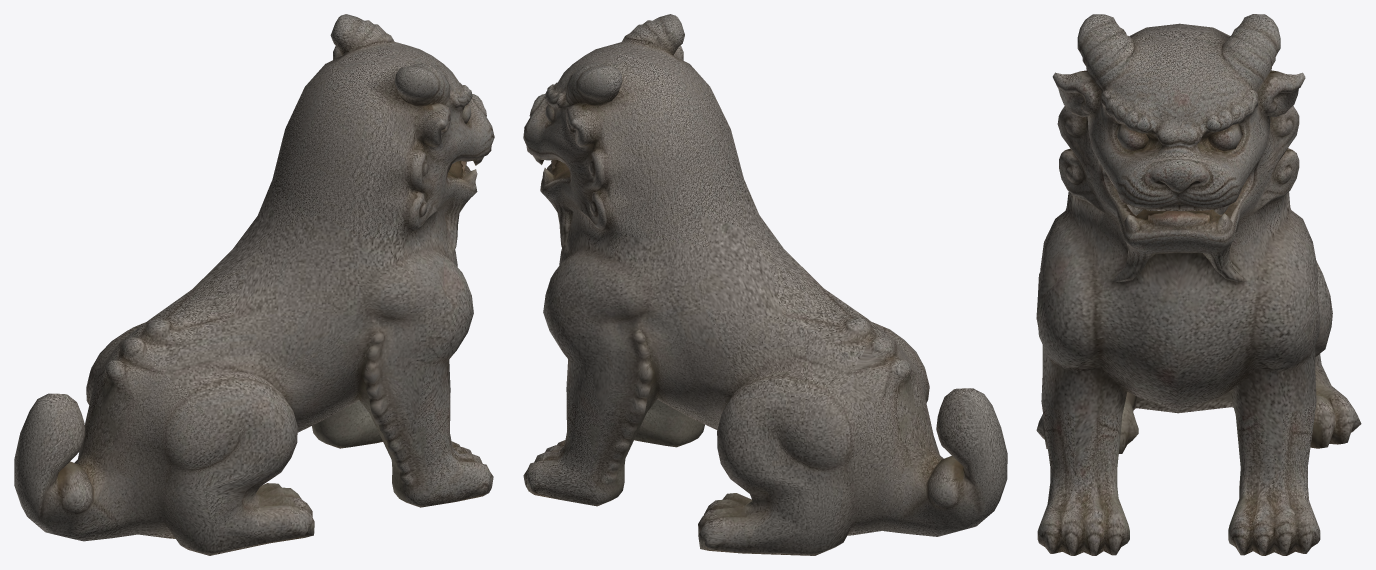
Rendered from tripo_convert_aa220af6-7fc4-4958-8dbf-3d42e81b0659.fbx.
The picture shows the model from 3 angles, left to right: view 1: azimuth 30°, elevation 25°; view 2: azimuth 150°, elevation 25°; view 3: azimuth 270°, elevation 25°; orthographic projection. The views are drawn at different scales.
Visible parts, largest first — view 1: tripo_node_aa220af6; view 2: tripo_node_aa220af6; view 3: tripo_node_aa220af6.
Boxes of the visible parts, <box> form: tripo_node_aa220af6: <box>14,14,494,555</box>; tripo_node_aa220af6: <box>523,14,1007,555</box>; tripo_node_aa220af6: <box>1036,14,1361,555</box>.
Bounding box in the file's own units: 0.998 × 0.8809 × 0.5098.
1 material, 1 textured.
